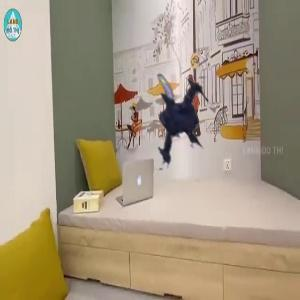drone: (121, 56, 235, 170)
